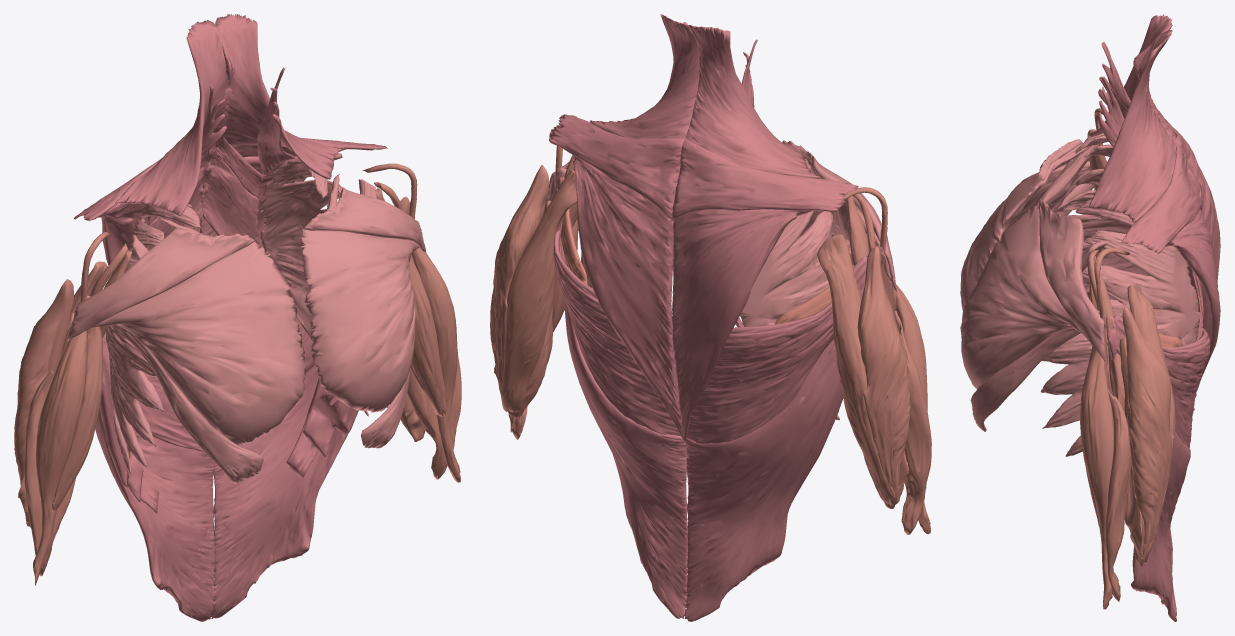
The model's file is z-anatomy-1.4.0-shoulder-addon.glb.
3 views of the same model, side by side, from view 1: azimuth 30°, elevation 25°; view 2: azimuth 150°, elevation 25°; view 3: azimuth 270°, elevation 25° (orthographic). The views are drawn at different scales.
Visible parts, largest first — view 1: pectoralis-major-muscles-sternocostal-head-of-pectoralis-maj (×2), latissimus-dorsi-muscles-latissimus-dorsi-muscle-left__Latis, latissimus-dorsi-muscles-latissimus-dorsi-muscle-right__Lati, pectoralis-major-muscles-clavicular-head-of-pectoralis-major (×2), trapezius-muscles-descending-part-of-trapezius-muscle-right_, trapezius-muscles-descending-part-of-trapezius-muscle-left__, biceps-brachii-muscles-long-head-of-biceps-brachii-right__Lo, serratus-anterior-muscles-serratus-anterior-muscle-left__Ser, serratus-anterior-muscles-serratus-anterior-muscle-right__Se, pectoralis-major-muscles-abdominal-part-of-pectoralis-major- (×2), biceps-brachii-muscles-long-head-of-biceps-brachii-left__Lon, triceps-brachii-muscles-lateral-head-of-triceps-brachii-righ (+13 smaller); view 2: latissimus-dorsi-muscles-latissimus-dorsi-muscle-right__Lati, latissimus-dorsi-muscles-latissimus-dorsi-muscle-left__Latis, trapezius-muscles-ascending-part-of-trapezius-muscle-left__A, trapezius-muscles-ascending-part-of-trapezius-muscle-right__, trapezius-muscles-descending-part-of-trapezius-muscle-right_, triceps-brachii-muscles-lateral-head-of-triceps-brachii-righ, trapezius-muscles-transverse-part-of-trapezius-muscle-right_, triceps-brachii-muscles-long-head-of-triceps-brachii-left__L, trapezius-muscles-transverse-part-of-trapezius-muscle-left__, triceps-brachii-muscles-long-head-of-triceps-brachii-right__, serratus-anterior-muscles-serratus-anterior-muscle-right__Se, trapezius-muscles-descending-part-of-trapezius-muscle-left__ (+9 smaller); view 3: pectoralis-major-muscles-sternocostal-head-of-pectoralis-maj (×2), serratus-anterior-muscles-serratus-anterior-muscle-left__Ser, triceps-brachii-muscles-lateral-head-of-triceps-brachii-left, trapezius-muscles-descending-part-of-trapezius-muscle-left__, latissimus-dorsi-muscles-latissimus-dorsi-muscle-left__Latis, pectoralis-major-muscles-clavicular-head-of-pectoralis-major (×2), biceps-brachii-muscles-long-head-of-biceps-brachii-left__Lon, trapezius-muscles-transverse-part-of-trapezius-muscle-left__, brachialis-muscles-brachialis-muscle-left__Brachialis muscle, trapezius-muscles-ascending-part-of-trapezius-muscle-left__A, pectoralis-major-muscles-abdominal-part-of-pectoralis-major-, serratus-anterior-muscles-serratus-anterior-muscle-right__Se (+13 smaller).
Boxes of the visible parts, x1,y1,x2,y2 form: pectoralis-major-muscles-sternocostal-head-of-pectoralis-maj (×2): (90,229,419,446); latissimus-dorsi-muscles-latissimus-dorsi-muscle-left__Latis: (211,318,358,618); latissimus-dorsi-muscles-latissimus-dorsi-muscle-right__Lati: (95,332,214,621); pectoralis-major-muscles-clavicular-head-of-pectoralis-major (×2): (67,187,426,340); trapezius-muscles-descending-part-of-trapezius-muscle-right_: (115,20,234,215); trapezius-muscles-descending-part-of-trapezius-muscle-left__: (215,14,349,179); biceps-brachii-muscles-long-head-of-biceps-brachii-right__Lo: (33,232,109,585); serratus-anterior-muscles-serratus-anterior-muscle-left__Ser: (259,160,388,416); serratus-anterior-muscles-serratus-anterior-muscle-right__Se: (106,203,201,473); pectoralis-major-muscles-abdominal-part-of-pectoralis-major- (×2): (86,295,409,483); biceps-brachii-muscles-long-head-of-biceps-brachii-left__Lon: (362,163,460,482); triceps-brachii-muscles-lateral-head-of-triceps-brachii-righ: (14,279,73,526); latissimus-dorsi-muscles-latissimus-dorsi-muscle-right__Lati: (684,255,867,621); latissimus-dorsi-muscles-latissimus-dorsi-muscle-left__Latis: (553,177,687,618); trapezius-muscles-ascending-part-of-trapezius-muscle-left__A: (572,155,685,443); trapezius-muscles-ascending-part-of-trapezius-muscle-right__: (672,209,812,443); trapezius-muscles-descending-part-of-trapezius-muscle-right_: (685,25,821,178); triceps-brachii-muscles-lateral-head-of-triceps-brachii-righ: (857,246,910,505); trapezius-muscles-transverse-part-of-trapezius-muscle-right_: (671,138,858,221); triceps-brachii-muscles-long-head-of-triceps-brachii-left__L: (501,169,576,412); trapezius-muscles-transverse-part-of-trapezius-muscle-left__: (549,114,685,220); triceps-brachii-muscles-long-head-of-triceps-brachii-right__: (817,234,895,504); serratus-anterior-muscles-serratus-anterior-muscle-right__Se: (740,210,853,420); trapezius-muscles-descending-part-of-trapezius-muscle-left__: (589,14,700,139); pectoralis-major-muscles-sternocostal-head-of-pectoralis-maj (×2): (960,160,1104,389); serratus-anterior-muscles-serratus-anterior-muscle-left__Ser: (1040,199,1200,456); triceps-brachii-muscles-lateral-head-of-triceps-brachii-left: (1122,306,1173,562); trapezius-muscles-descending-part-of-trapezius-muscle-left__: (1088,30,1176,222); latissimus-dorsi-muscles-latissimus-dorsi-muscle-left__Latis: (1107,315,1210,621); pectoralis-major-muscles-clavicular-head-of-pectoralis-major (×2): (1039,139,1104,361); biceps-brachii-muscles-long-head-of-biceps-brachii-left__Lon: (1080,248,1130,609); trapezius-muscles-transverse-part-of-trapezius-muscle-left__: (1121,141,1202,253); brachialis-muscles-brachialis-muscle-left__Brachialis muscle: (1105,379,1131,601); trapezius-muscles-ascending-part-of-trapezius-muscle-left__A: (1165,209,1220,388); pectoralis-major-muscles-abdominal-part-of-pectoralis-major-: (970,312,1105,431); serratus-anterior-muscles-serratus-anterior-muscle-right__Se: (1057,134,1190,299).
Size of the model in its own units: 0.4857 by 0.6432 by 0.2564.
